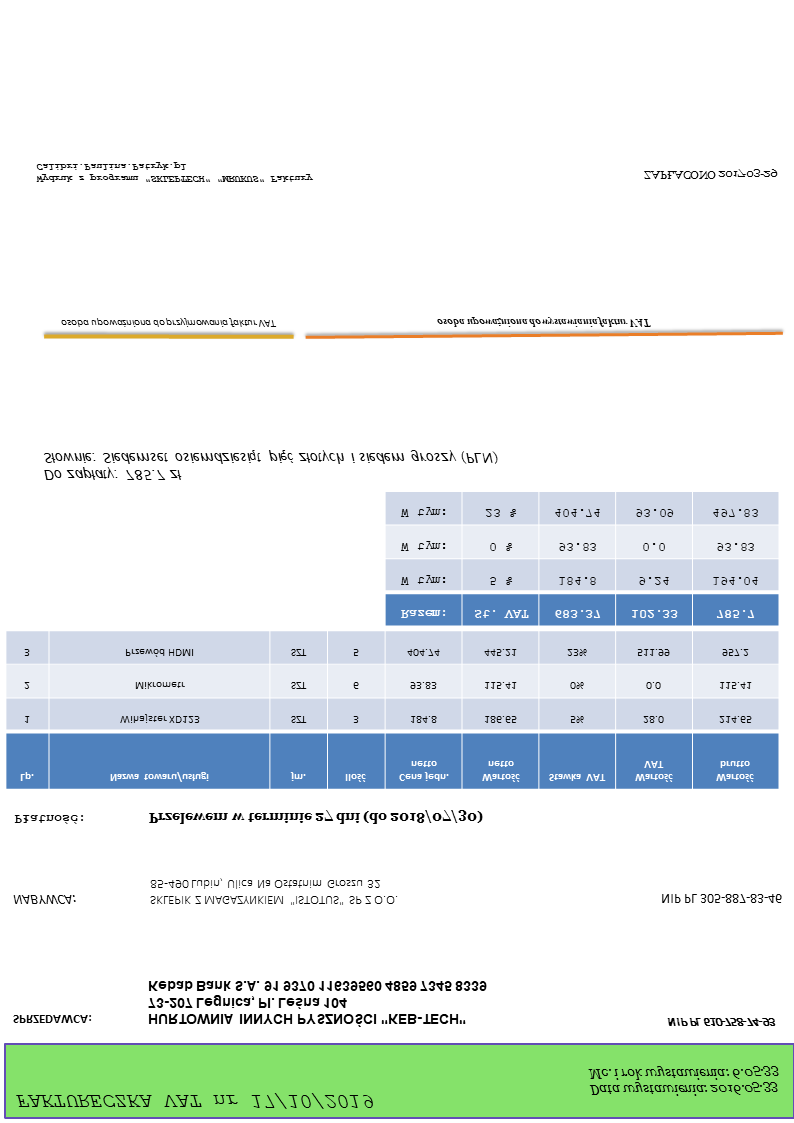Table: (4, 629, 780, 792), (383, 490, 781, 627)
TextBox: (145, 976, 490, 1030), (40, 449, 500, 486), (147, 875, 400, 909), (13, 1089, 375, 1112), (34, 160, 316, 186), (585, 1062, 781, 1099), (146, 809, 483, 828), (59, 314, 279, 331), (434, 315, 652, 331), (640, 166, 778, 183), (657, 890, 784, 908), (665, 1014, 778, 1031), (10, 1012, 94, 1028), (11, 812, 86, 828), (11, 893, 77, 909)
